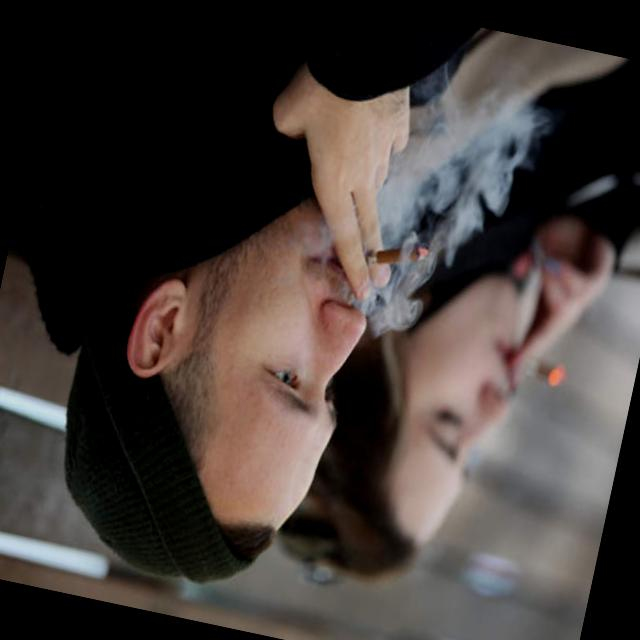smoke: (352, 228, 435, 280), (504, 344, 572, 396)
